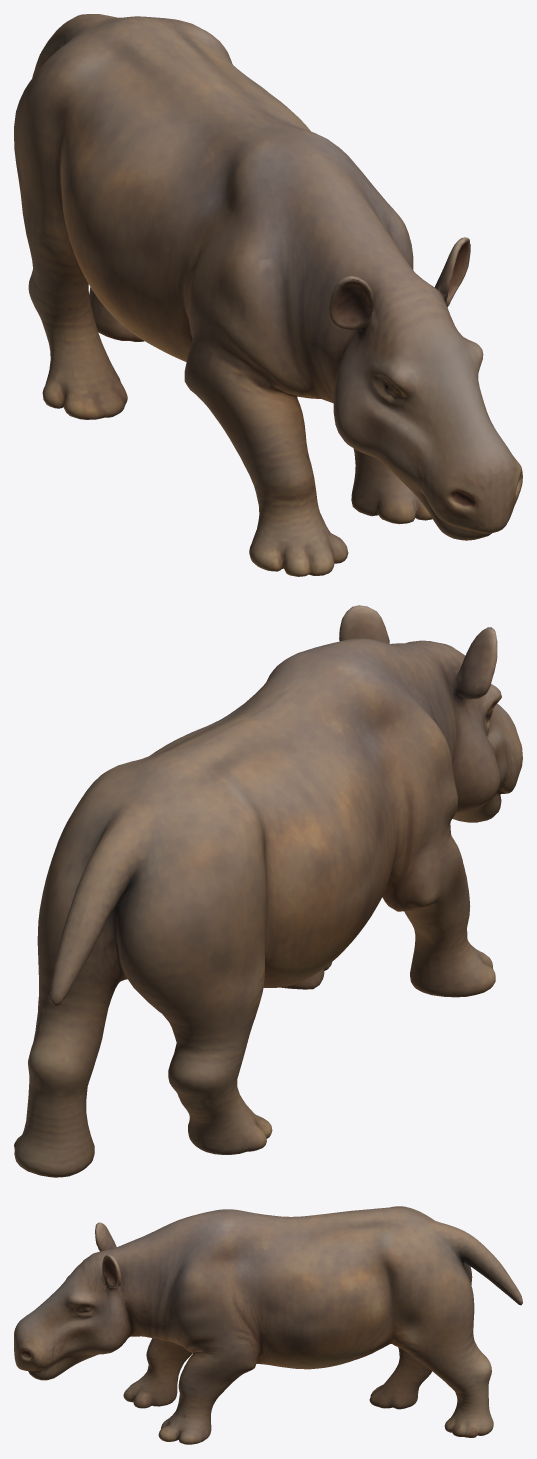
3 views of the same model, one above another, from view 1: azimuth 30°, elevation 25°; view 2: azimuth 150°, elevation 25°; view 3: azimuth 270°, elevation 25° (orthographic). The views are drawn at different scales.
Parts seen in each view (by area): view 1: world; view 2: world; view 3: world.
Boxes of the visible parts, left/top/right/bottom form: world: left=14, top=14, right=522, bottom=576; world: left=14, top=605, right=522, bottom=1177; world: left=14, top=1206, right=522, bottom=1444.
Size of the model in its own units: 1.19 by 1.79 by 4.
1 material, 1 textured.
